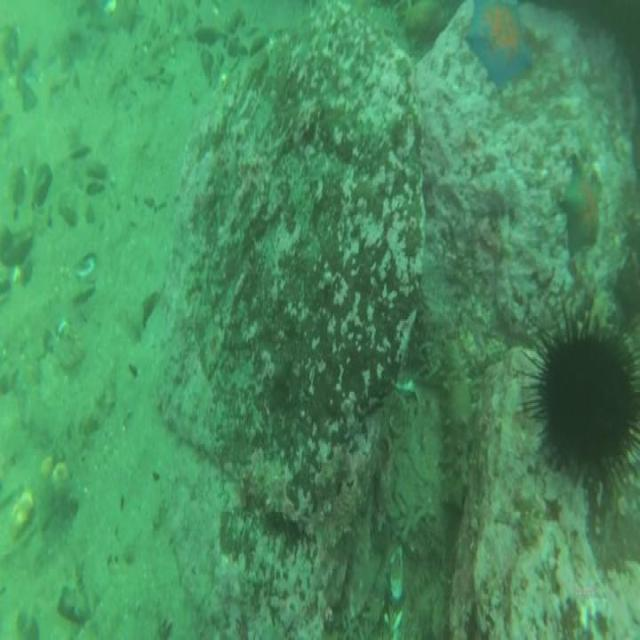echinus: (540, 324, 636, 474)
holothurian: (442, 342, 476, 514)
starfish: (468, 3, 534, 82), (561, 161, 601, 253)
